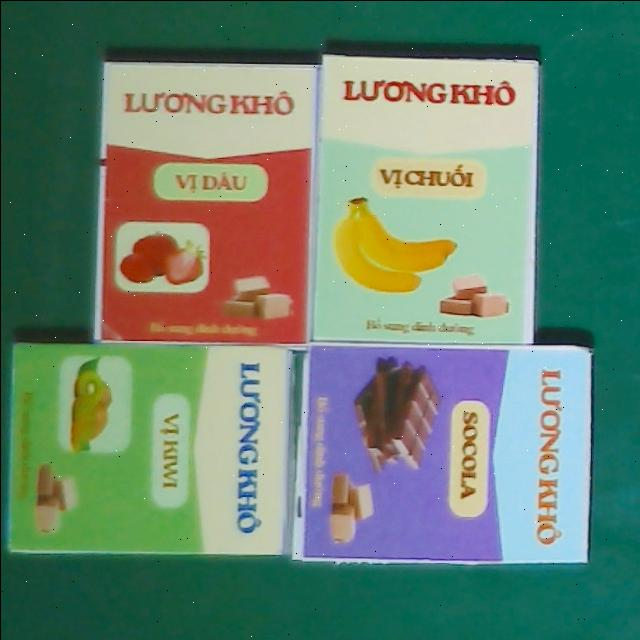chuoi: (308, 54, 539, 346)
dau: (91, 55, 318, 348)
kiwi: (8, 343, 294, 555)
socola: (287, 344, 592, 566)
